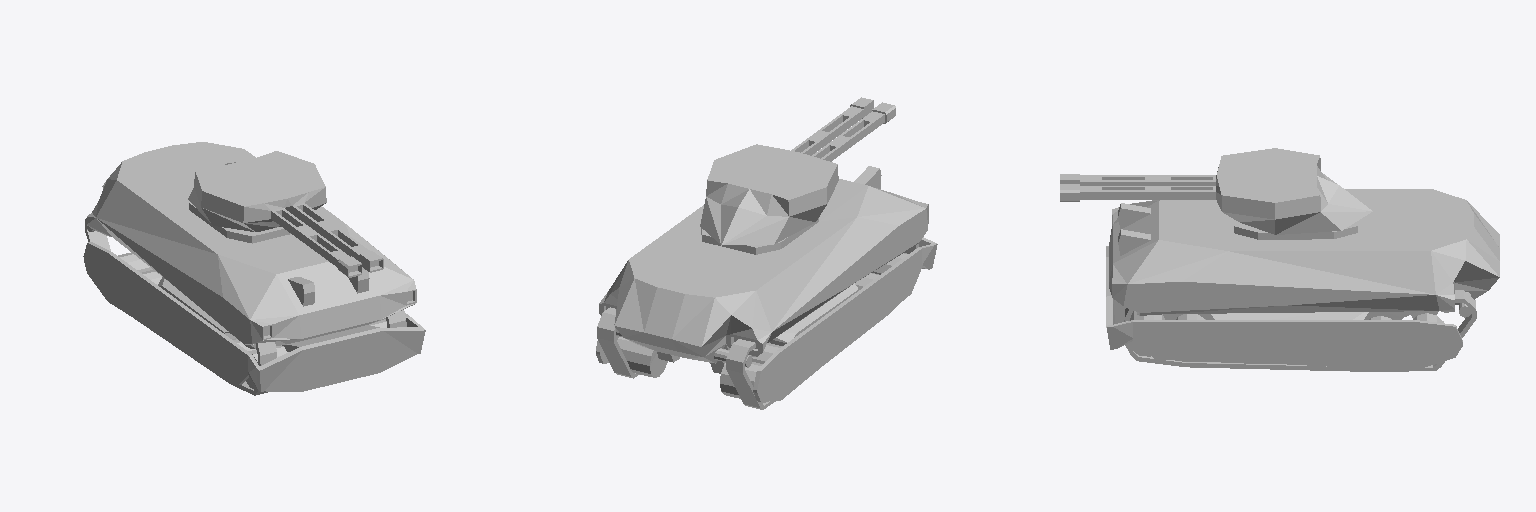
The model's file is tank1.obj.
3 renders of one model, left to right at view 1: azimuth 30°, elevation 25°; view 2: azimuth 150°, elevation 25°; view 3: azimuth 270°, elevation 25°, orthographic.
Parts seen in each view (by area): view 1: Body_Cube.001, Turret_Cube.009, Track_Cube.002; view 2: Body_Cube.001, Turret_Cube.009, Track_Cube.002, Wheel4_Cube.005; view 3: Body_Cube.001, Turret_Cube.009, Track_Cube.002.
Boxes of the visible parts, <box> form: Body_Cube.001: <box>83,142,425,391</box>; Turret_Cube.009: <box>188,151,383,277</box>; Track_Cube.002: <box>85,218,406,395</box>; Body_Cube.001: <box>596,166,937,401</box>; Turret_Cube.009: <box>700,97,895,245</box>; Track_Cube.002: <box>597,244,918,409</box>; Wheel4_Cube.005: <box>617,337,765,403</box>; Body_Cube.001: <box>1106,189,1499,370</box>; Turret_Cube.009: <box>1060,148,1372,234</box>; Track_Cube.002: <box>1124,290,1476,371</box>.
Bounding box in the file's own units: 1.96 × 1.82 × 4.51.